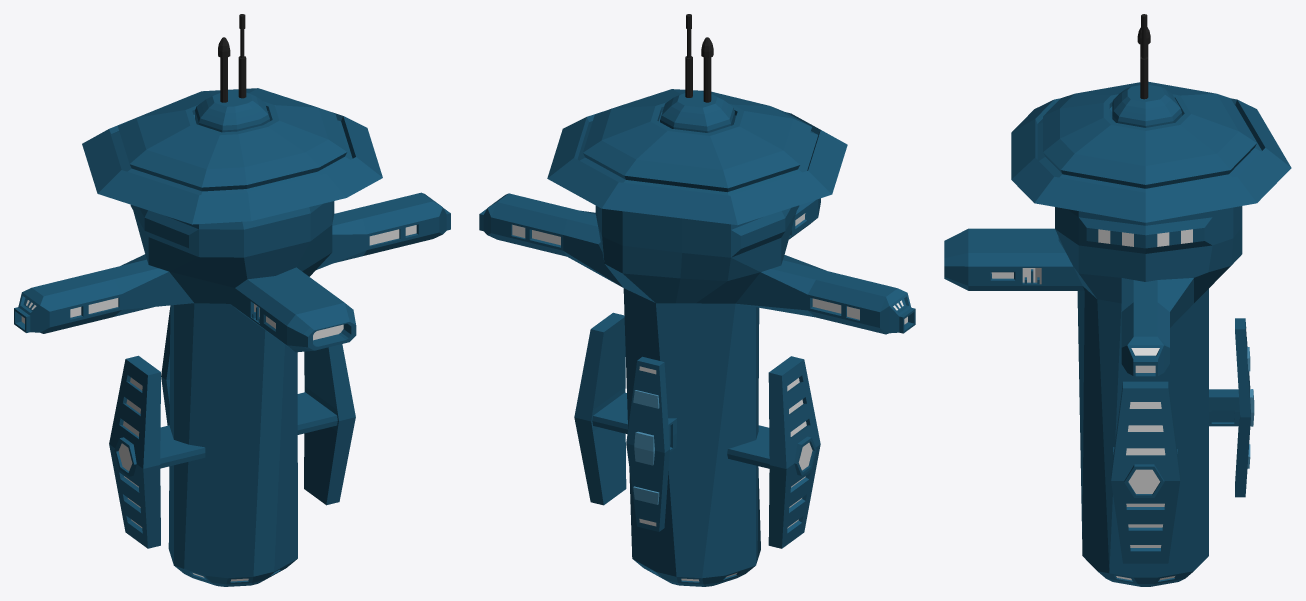
Rendered from Hangar_espacial_1.fbx.
3 renders of one model, left to right at view 1: azimuth 30°, elevation 25°; view 2: azimuth 150°, elevation 25°; view 3: azimuth 270°, elevation 25°, orthographic.
Visible parts, largest first — view 1: Circle.002; view 2: Circle.002; view 3: Circle.002.
Part boxes in pixels (x1,y1,x2,y2): Circle.002: (14,14,450,586); Circle.002: (479,14,915,586); Circle.002: (944,14,1291,586).
Bounding box in the file's own units: 1746 × 2166 × 1224.
2 materials, 1 textured.
